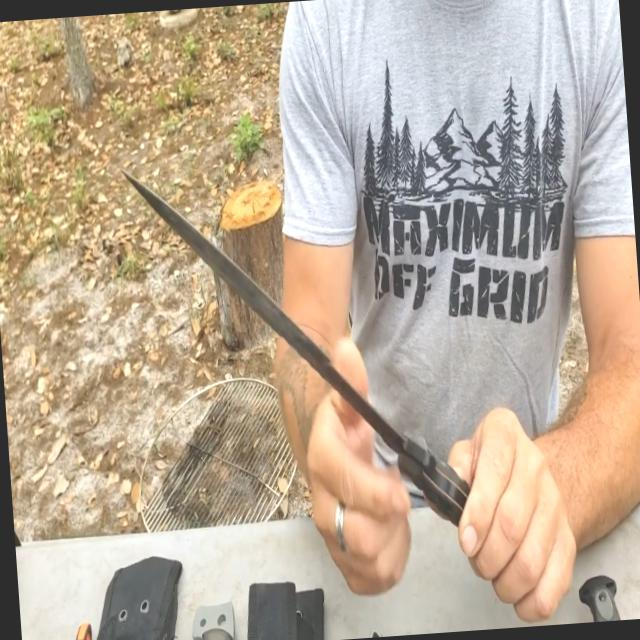knife: (122, 113, 500, 584)
